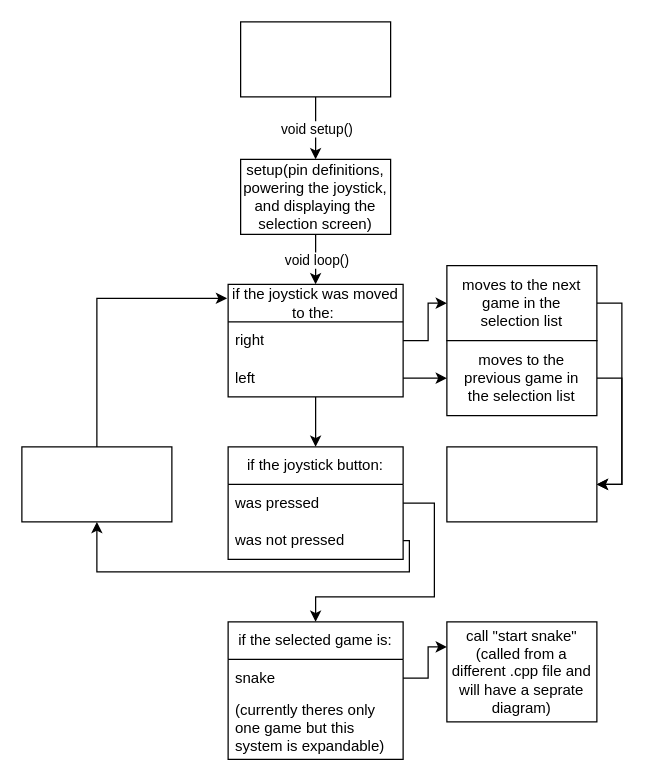
This 654x781 diagram has some shape labels left out. Each missing label, with the centre of its shape:
display the icon of the selected game: the point at 521,484
Start: the point at 315,59
wait for 0.2 seconds: the point at 96,484
